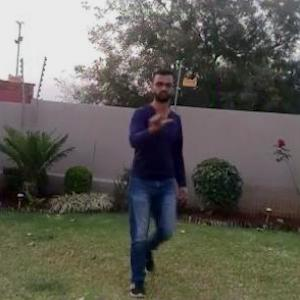land_hand: (143, 98, 175, 133)
